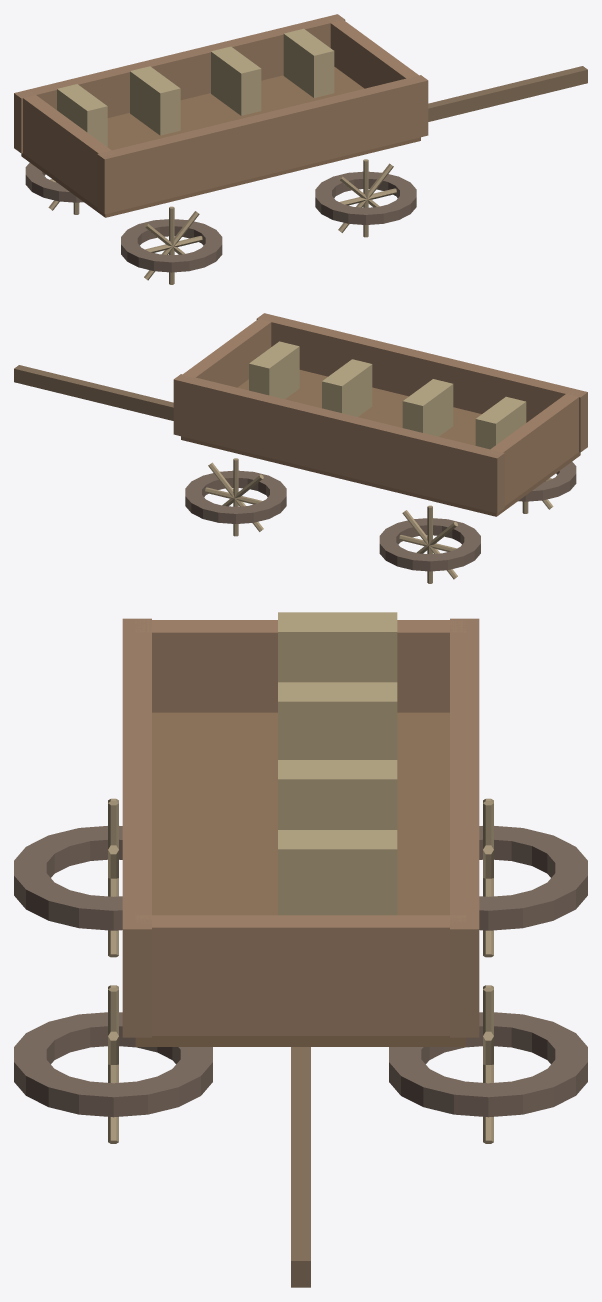
File: market_wagon.glb
The picture shows the model from 3 angles, top to bottom: view 1: azimuth 30°, elevation 25°; view 2: azimuth 150°, elevation 25°; view 3: azimuth 270°, elevation 25°; orthographic projection. The views are drawn at different scales.
Visible parts, largest first — view 1: market_wagon_1, market_wagon_2, market_wagon_0, market_wagon_3, market_wagon_33, market_wagon_15, market_wagon_4, market_wagon_5, market_wagon_45, market_wagon_44, market_wagon_43, market_wagon_42 (+1 smaller); view 2: market_wagon_2, market_wagon_1, market_wagon_3, market_wagon_0, market_wagon_24, market_wagon_6, market_wagon_5, market_wagon_4, market_wagon_43, market_wagon_44, market_wagon_45, market_wagon_42 (+1 smaller); view 3: market_wagon_0, market_wagon_4, market_wagon_3, market_wagon_1, market_wagon_2, market_wagon_24, market_wagon_33, market_wagon_45, market_wagon_43, market_wagon_42, market_wagon_44, market_wagon_6 (+2 smaller).
Part boxes in pixels (x1,y1,x2,y2): market_wagon_1: (97,75,428,214); market_wagon_2: (14,14,345,153); market_wagon_0: (21,67,420,217); market_wagon_3: (22,92,114,206); market_wagon_33: (315,171,416,224); market_wagon_15: (121,219,222,272); market_wagon_4: (328,17,421,88); market_wagon_5: (428,66,587,121); market_wagon_45: (283,28,334,97); market_wagon_44: (211,46,261,115); market_wagon_43: (130,66,180,135); market_wagon_42: (57,84,107,146); market_wagon_2: (173,374,504,513); market_wagon_1: (256,313,587,452); market_wagon_3: (487,391,579,505); market_wagon_0: (181,370,580,516); market_wagon_24: (185,470,286,523); market_wagon_6: (379,518,480,571); market_wagon_5: (14,365,173,420); market_wagon_4: (180,316,272,387); market_wagon_43: (402,379,453,436); market_wagon_44: (322,359,372,416); market_wagon_45: (249,341,299,399); market_wagon_42: (475,396,526,449); market_wagon_0: (135,712,466,1046); market_wagon_4: (135,915,466,1035); market_wagon_3: (135,620,466,712); market_wagon_1: (122,618,151,1037); market_wagon_2: (450,618,479,1037); market_wagon_24: (389,1012,587,1117); market_wagon_33: (14,1012,212,1117); market_wagon_45: (278,830,397,915); market_wagon_43: (278,682,397,759); market_wagon_42: (278,612,397,682); market_wagon_44: (278,760,397,829); market_wagon_6: (479,826,587,930).
Size of the model in its own units: 6.5 by 1.8 by 3.12.
